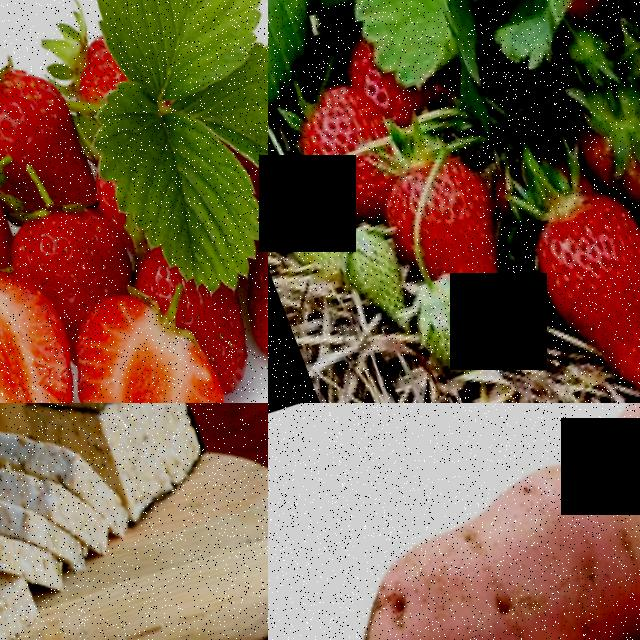strawberry: (513, 158, 640, 403), (50, 289, 246, 403), (0, 33, 103, 227), (0, 251, 90, 403), (276, 64, 384, 166)
sweet potato: (295, 403, 640, 640)
tempeh: (77, 403, 220, 516)
